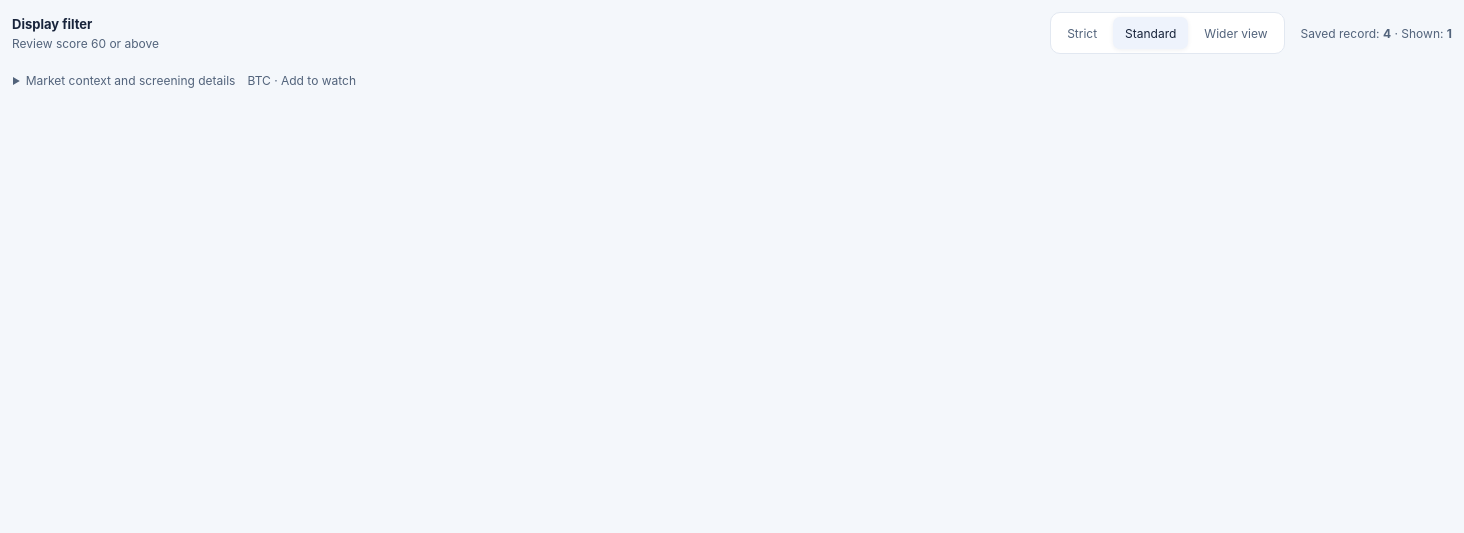
Test: MarketContextStrip › shows bounded per-instrument screening reasons only in an explicit disclosure
This screenshot has width=1464, height=533.
Expected: the element "Display filter" shows "Saved record: 4 · Shown: 1", [12,12,1452,54]
Click the text "Market context and screening details": (131,80) [26,73,236,88]
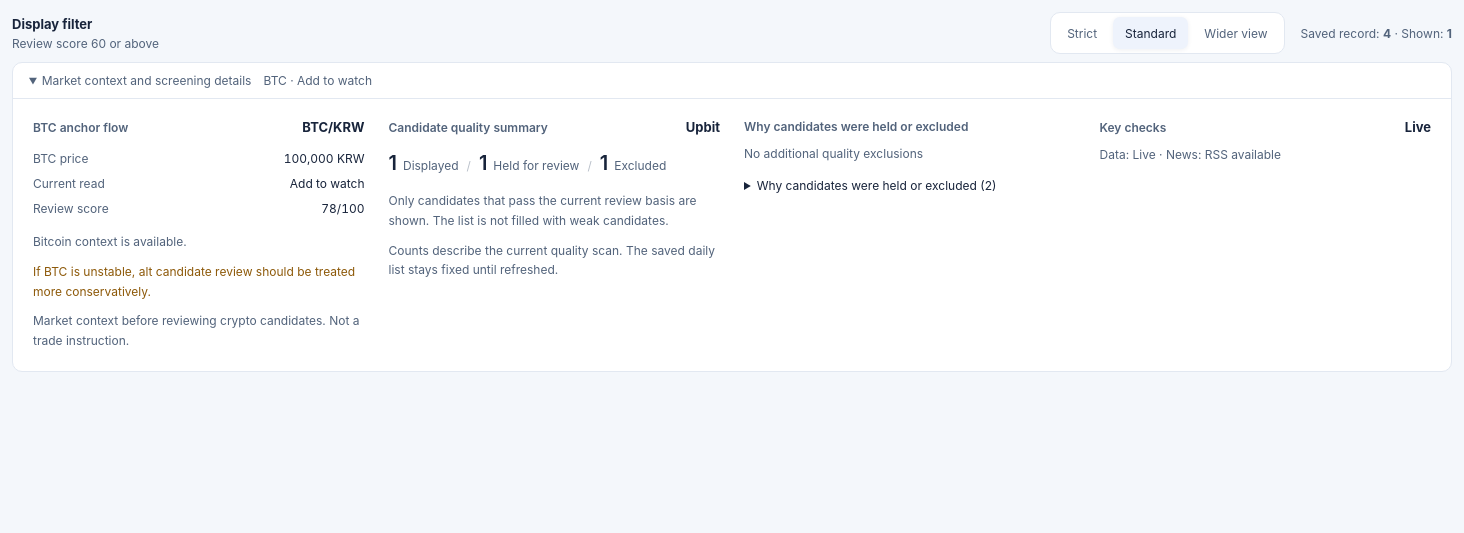
Click the heading "Why candidates were held or excluded (2)": (877,185) [757,178,996,193]
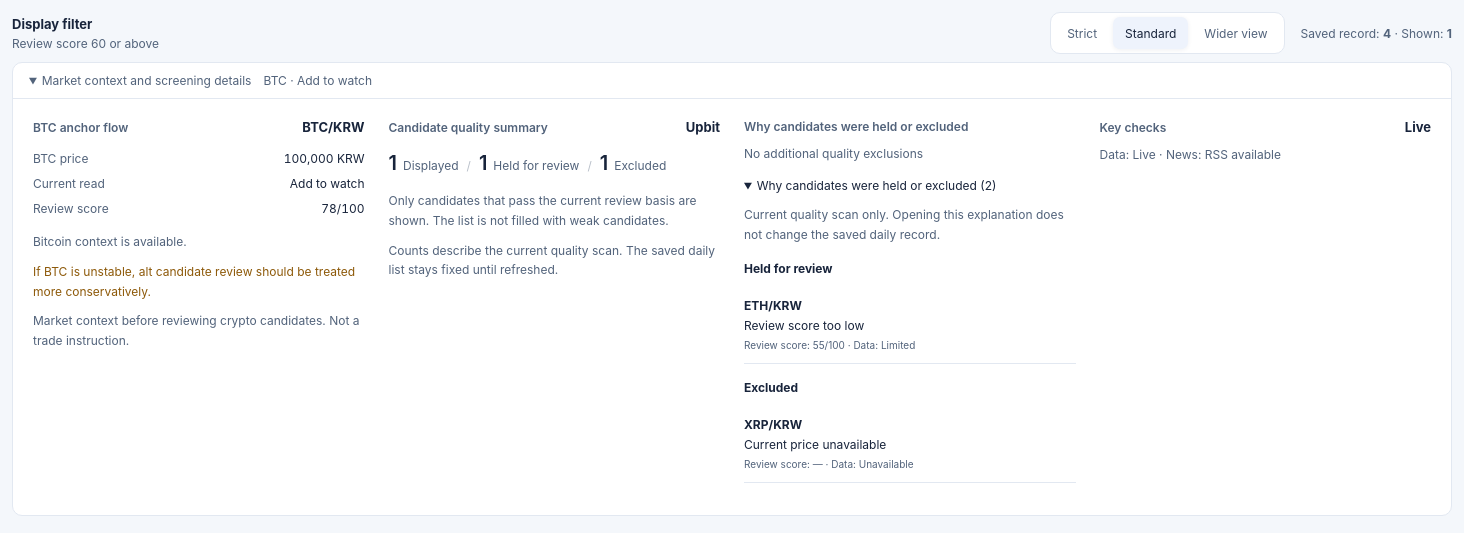
Result: the element "Why candidates were held or excluded" shows "Opening this explanation does not change the saved daily record." at [744,207,1064,242]
